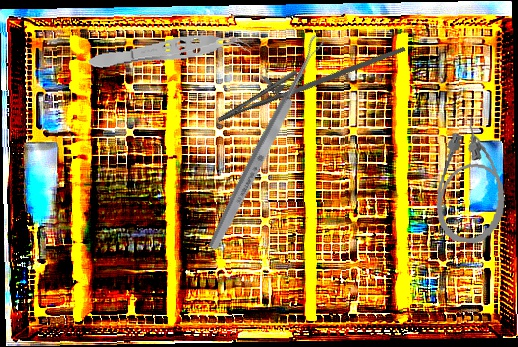Cannula: (430, 113, 517, 248)
Needle Holder: (209, 10, 407, 145)
Surgical Spoon: (205, 34, 327, 252)
Tissue Forceps: (86, 26, 254, 77)
